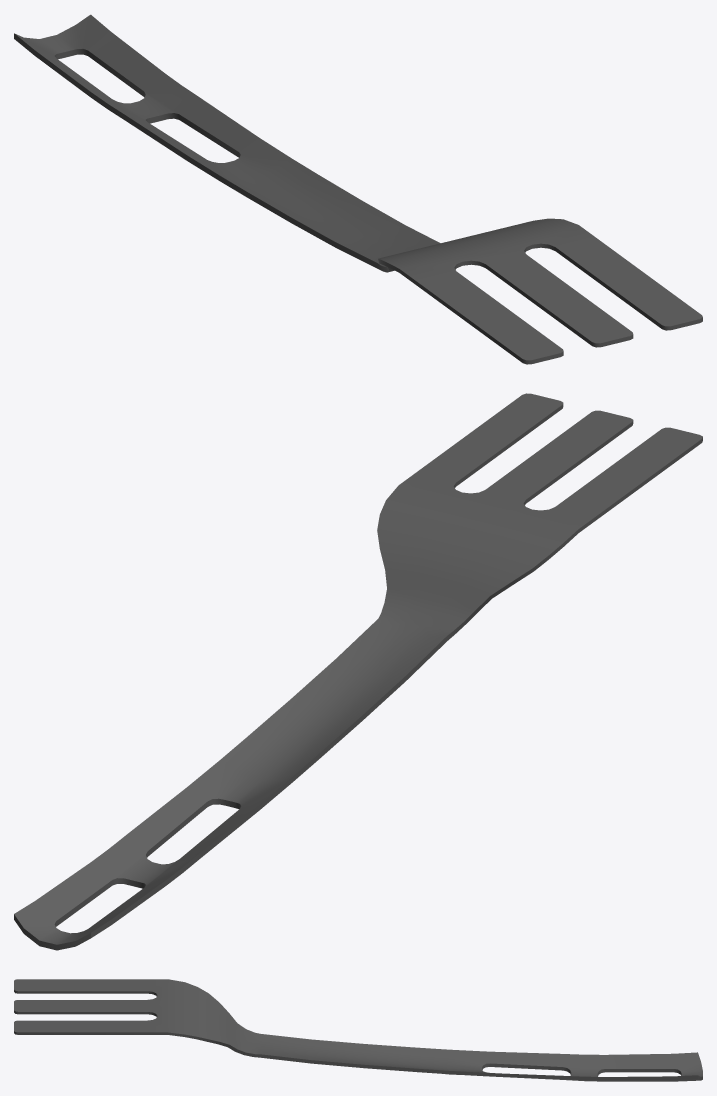
The model's file is nt_2020_art_fork_01_LOD0.obj.
The picture shows the model from 3 angles, top to bottom: view 1: azimuth 30°, elevation 25°; view 2: azimuth 150°, elevation 25°; view 3: azimuth 270°, elevation 25°; orthographic projection. The views are drawn at different scales.
Visible parts, largest first — view 1: nt_2020_metal_chrome; view 2: nt_2020_metal_chrome; view 3: nt_2020_metal_chrome.
Boxes of the visible parts, x1,y1,x2,y2 form: nt_2020_metal_chrome: (14, 14, 702, 364); nt_2020_metal_chrome: (14, 393, 702, 950); nt_2020_metal_chrome: (14, 979, 702, 1081).
Bounding box in the file's own units: 4.03 × 2.58 × 22.07.
